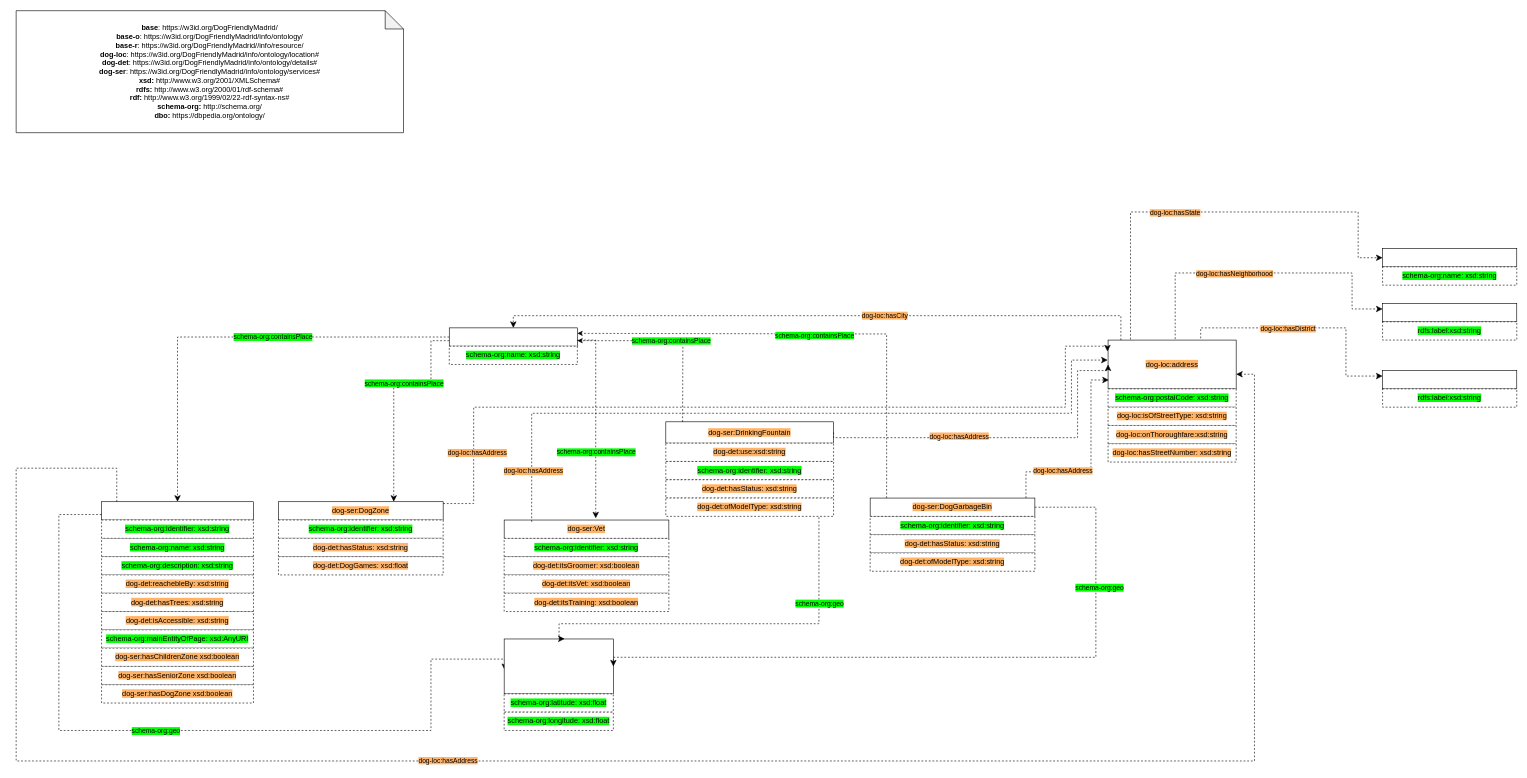
The diagram is 1527 pixels wide and 778 high, and some of its shapes have lost their labels. The shapes that lost their labels are listed below. From the top down, each one's centre as x and y in pixels, then its label:
At point 1449,257: "schema-org:State".
At point 1449,312: "dog-loc:Neighborhood".
At point 513,336: "schema-org:City".
At point 1449,379: "dog-loc:District".
At point 177,510: "schema-org:Park".
At point 558,666: "schema-org:GeoCoordinates".
